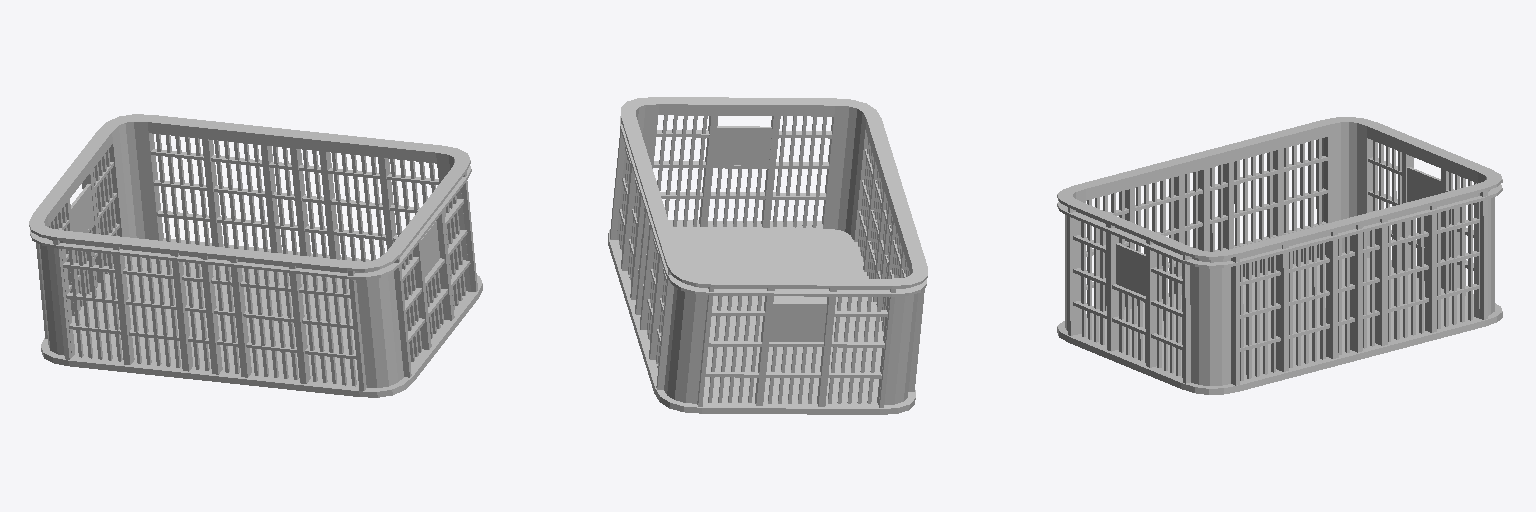
3 views of the same model, side by side, from view 1: azimuth 30°, elevation 25°; view 2: azimuth 150°, elevation 25°; view 3: azimuth 270°, elevation 25° (orthographic).
Parts seen in each view (by area): view 1: 14029_plastic_fruit_crate_SG; view 2: 14029_plastic_fruit_crate_SG; view 3: 14029_plastic_fruit_crate_SG.
Boxes of the visible parts, <box> form: 14029_plastic_fruit_crate_SG: <box>29,114,482,397</box>; 14029_plastic_fruit_crate_SG: <box>608,97,927,414</box>; 14029_plastic_fruit_crate_SG: <box>1057,117,1502,394</box>.
Size of the model in its own units: 2.05 by 0.882 by 2.09.